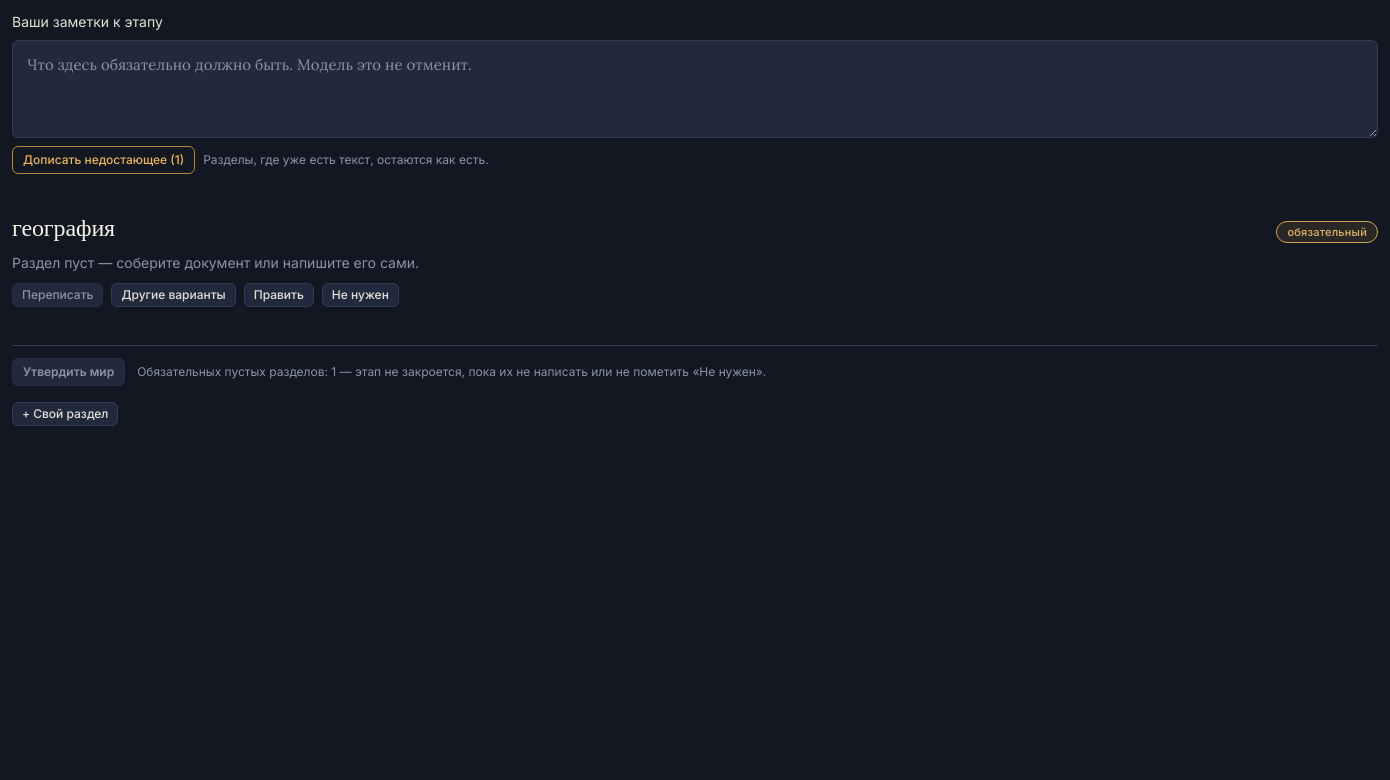
it: adding a section by hand › blocks a name that already exists on the stage
Click the button "+ Свой раздел" at (65, 414), box [12,402,118,426]
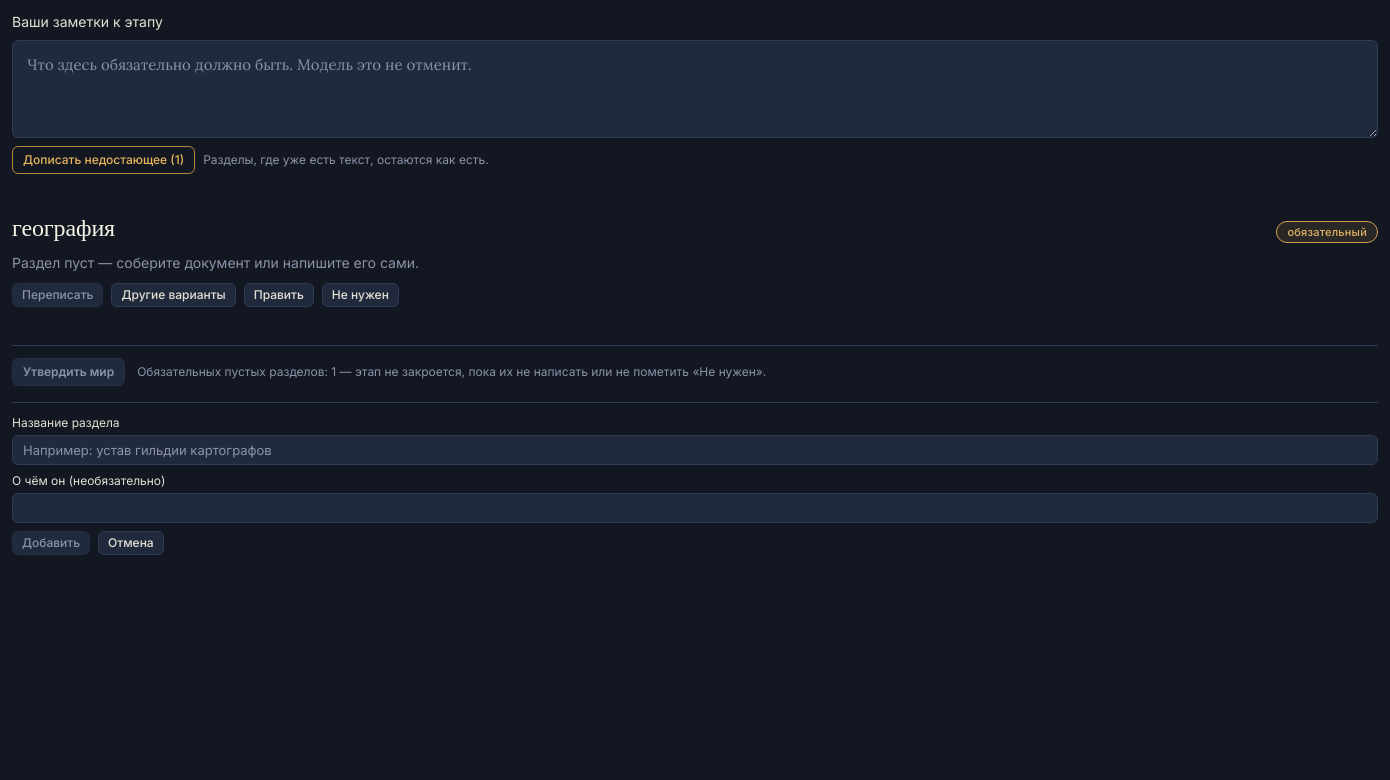
Type "География" into the field named "Название своего раздела" at (695, 450), box [12,435,1378,465]
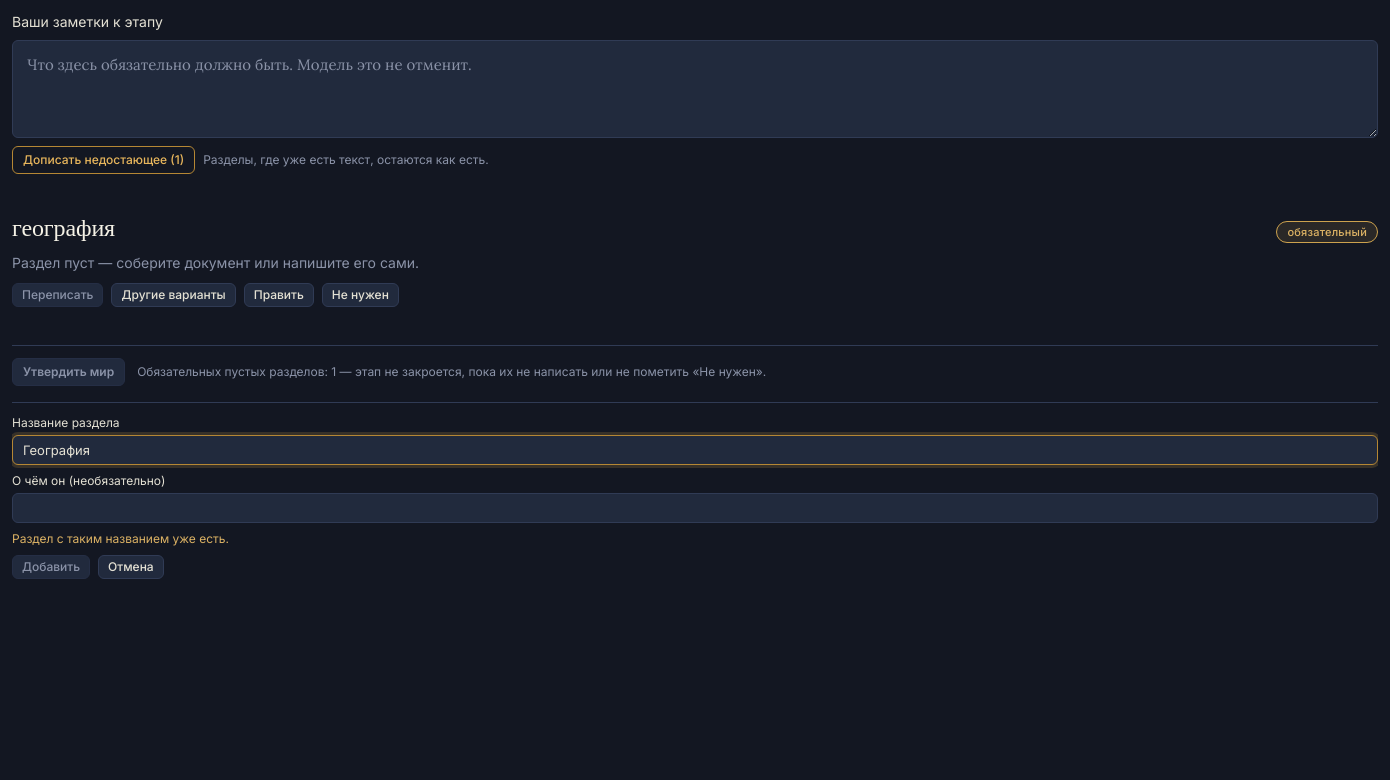
Expected: the button "Добавить" is disabled, [12,555,90,579]
Expected: the text "Раздел с таким названием уже есть." is shown, [12,531,229,546]
